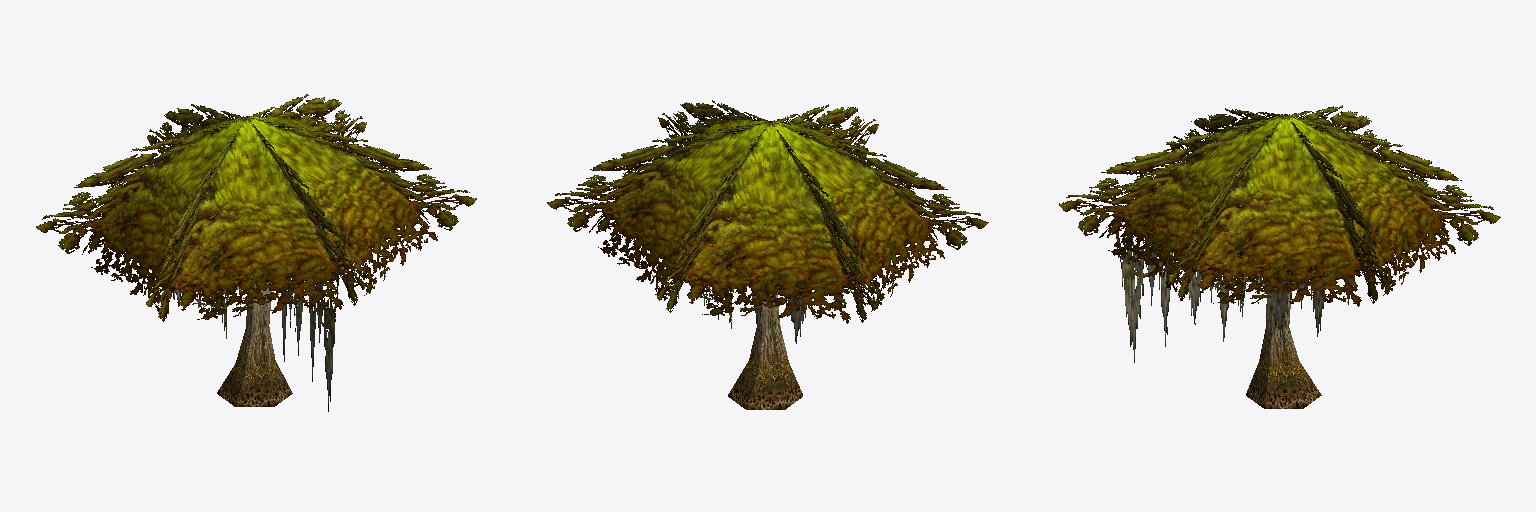
The picture shows the model from 3 angles: view 1: azimuth 30°, elevation 25°; view 2: azimuth 150°, elevation 25°; view 3: azimuth 270°, elevation 25°; orthographic projection.
Parts seen in each view (by area): view 1: SwampSorrowCanopyTree01; view 2: SwampSorrowCanopyTree01; view 3: SwampSorrowCanopyTree01.
Part boxes in pixels (bbox=[...]): SwampSorrowCanopyTree01: bbox=[36, 94, 476, 411]; SwampSorrowCanopyTree01: bbox=[547, 100, 988, 409]; SwampSorrowCanopyTree01: bbox=[1059, 105, 1500, 408].
Bounding box in the file's own units: 68.66 × 53.85 × 79.31.
Materials: 3 (3 with a texture image).